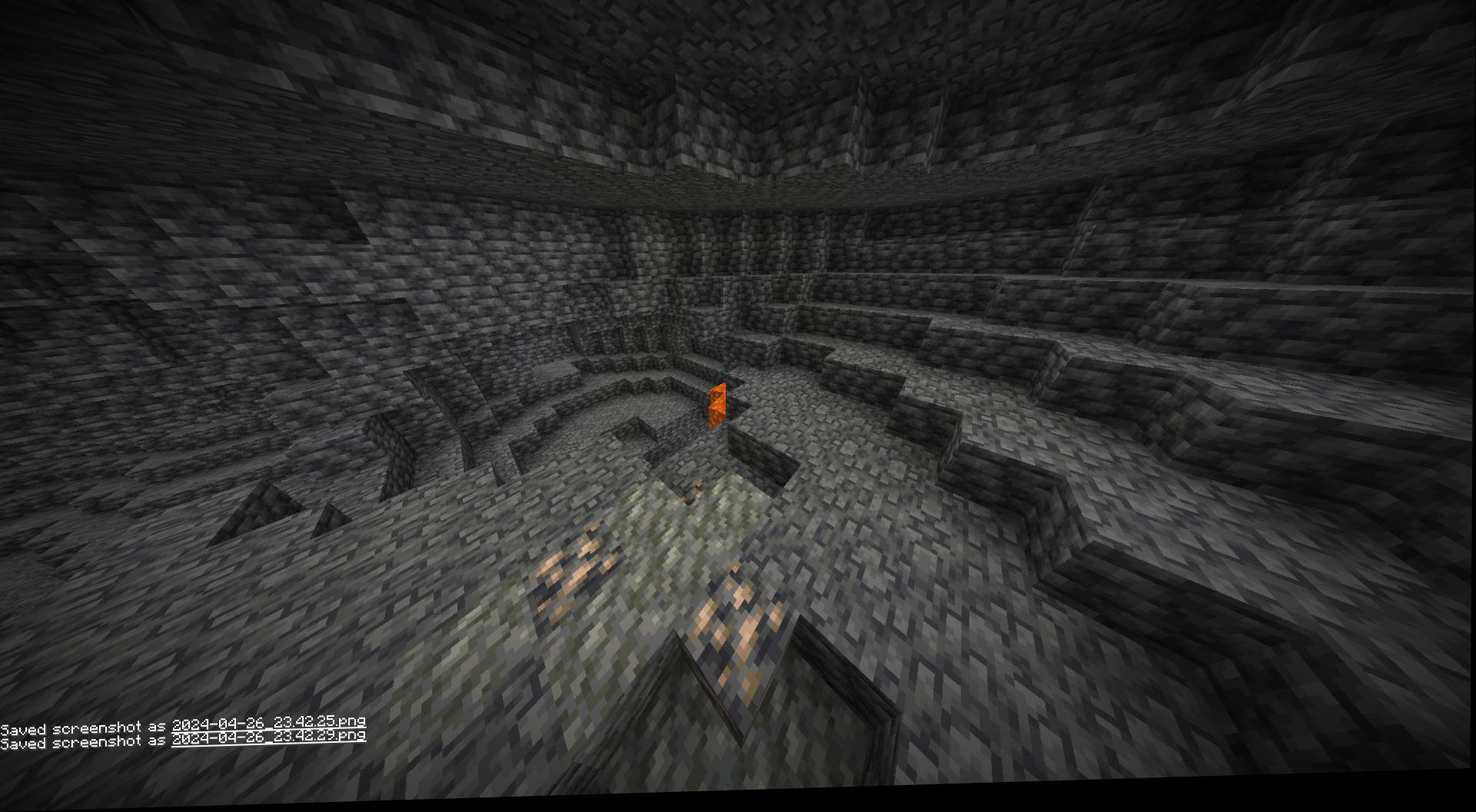iron ore: (681, 572, 794, 692), (530, 526, 625, 625)
